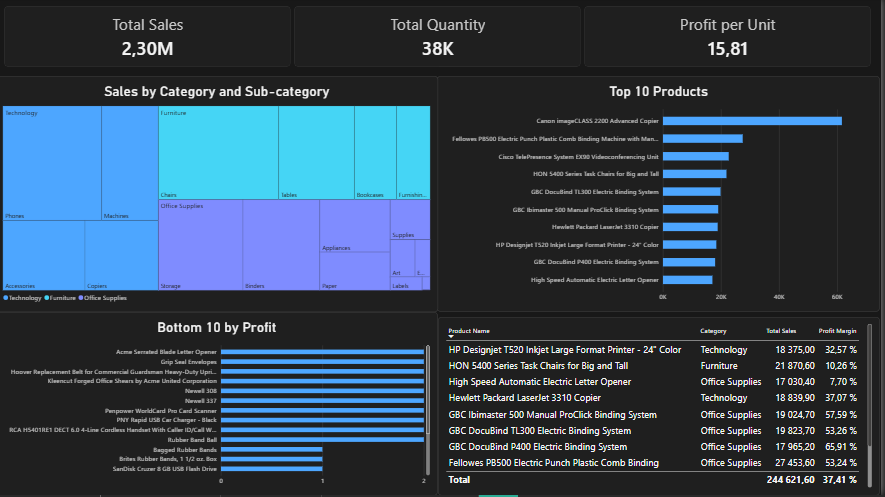

The page's visual inventory and layout, read from the dashboard file:
{"tool":"powerbi","page":{"name":"Product performance","canvas":[1920,1080],"ordinal":2},"visuals":[{"type":"cardVisual","fields":{"Data":["Region.Total Sales","Region.Total Quantity","Customer.Profit per Unit"]},"box":[0,0,1919.3,171.3],"z":2},{"type":"barChart","title":"Top 10 Products","fields":{"Category":["Product.Product Name"],"Y":["Region.Total Sales"]},"box":[958.6,171.3,960,511.5],"z":3},{"type":"treemap","title":"Sales by Category and Sub-category","fields":{"Details":["Product.Sub-Category"],"Group":["Product.Category"],"Values":["Region.Total Sales"]},"box":[0,171.3,960.7,511.8],"z":4},{"type":"tableEx","fields":{"Values":["Product.Product Name","Product.Category","Region.Total Sales","Region.Profit Margin"]},"box":[961,693,958,387],"z":6},{"type":"barChart","title":"Bottom 10 by Profit","fields":{"Category":["Product.Product Name"],"Y":["Region.Total Profit"]},"box":[0,682.8,960,398.1],"z":7}]}

Visuals, with their boxes in screenshot pixels (x1, y1, x2, y2), scaled from the page's 1920x1080 canvas onto the 885x497 screenshot:
cardVisual - Region.Total Sales x Region.Total Quantity: [left=0, top=0, right=884, bottom=79]
"Top 10 Products" barChart: [left=442, top=79, right=884, bottom=314]
"Sales by Category and Sub-category" treemap: [left=0, top=79, right=443, bottom=314]
tableEx - Product.Product Name x Product.Category: [left=443, top=319, right=884, bottom=496]
"Bottom 10 by Profit" barChart: [left=0, top=314, right=442, bottom=496]
